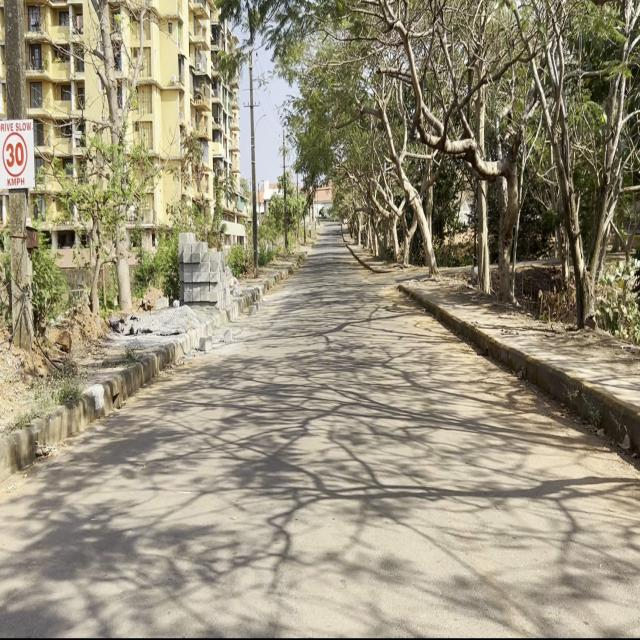Road: (0, 230, 640, 640)
